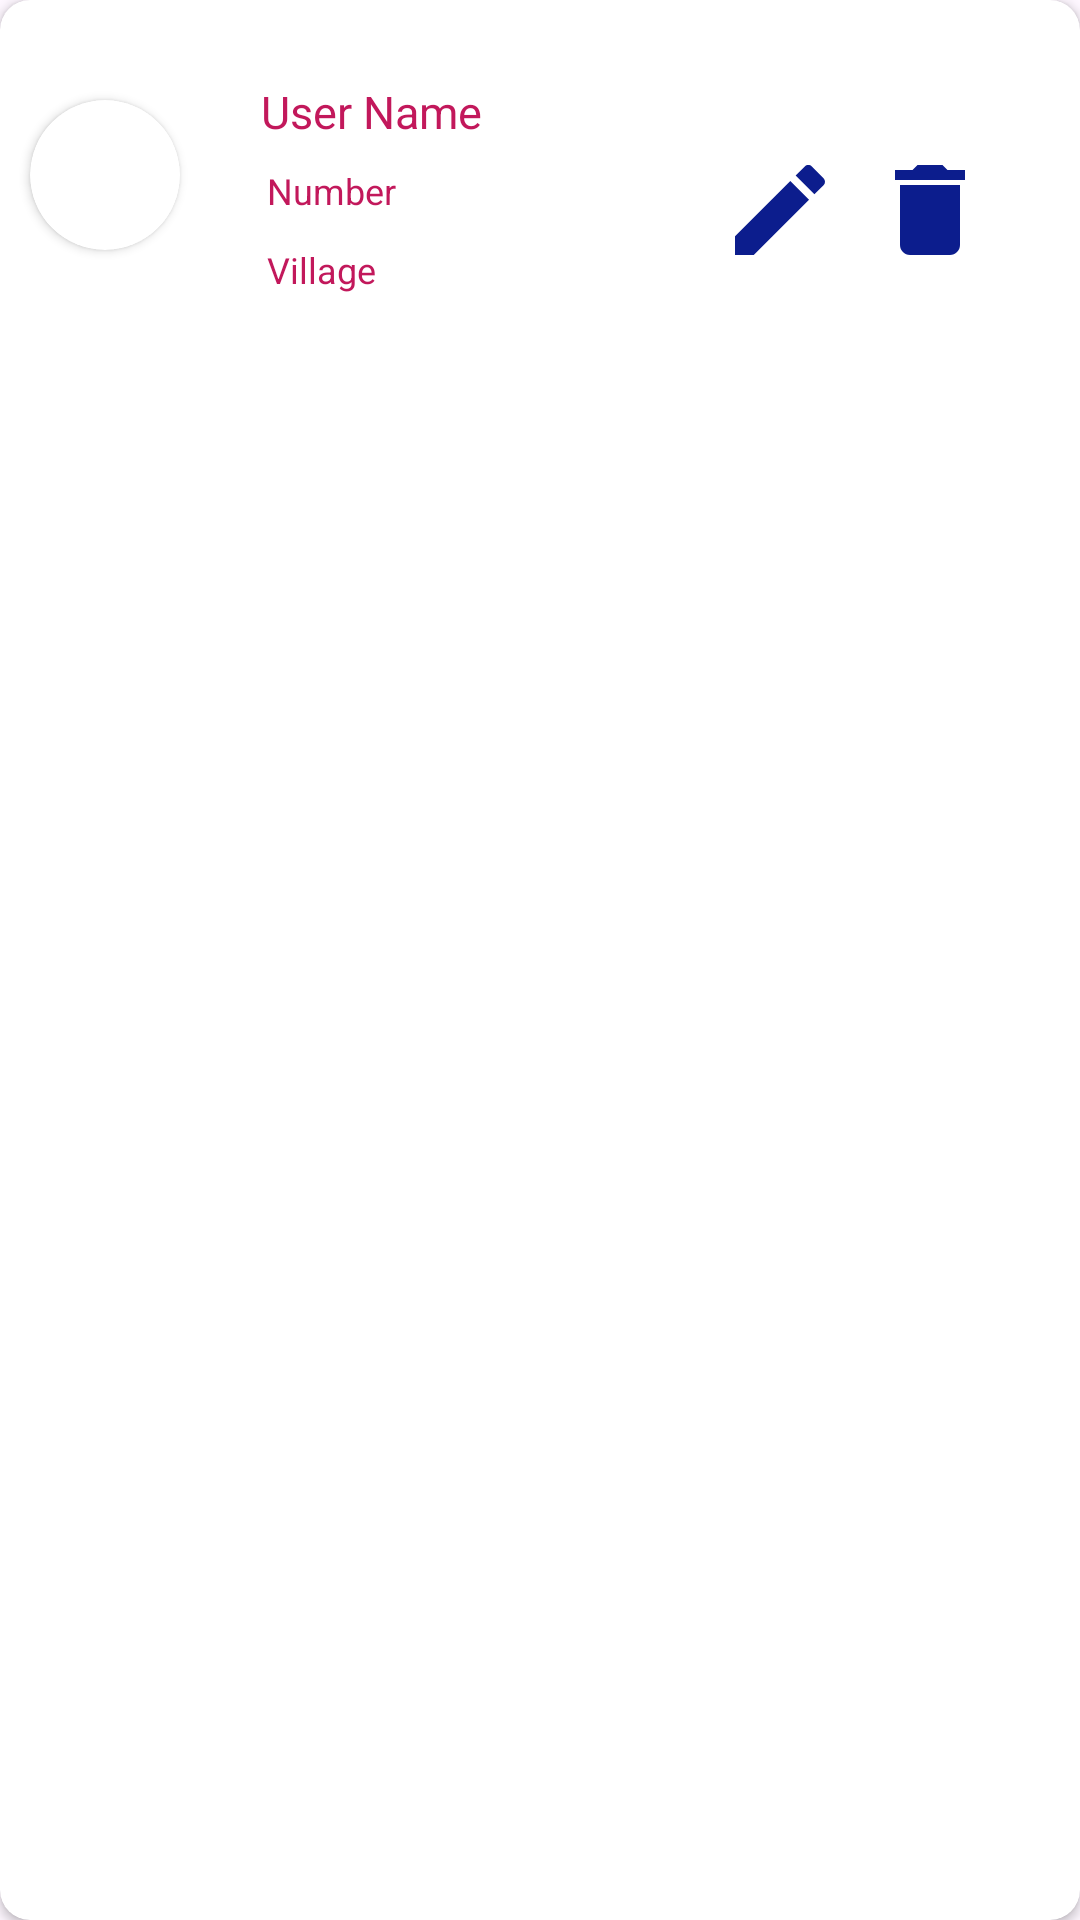

Icons on this 1080w x 1920h Android screen, each with the point to tap as [x,y]:
delete: [930,210]
edit: [780,210]
